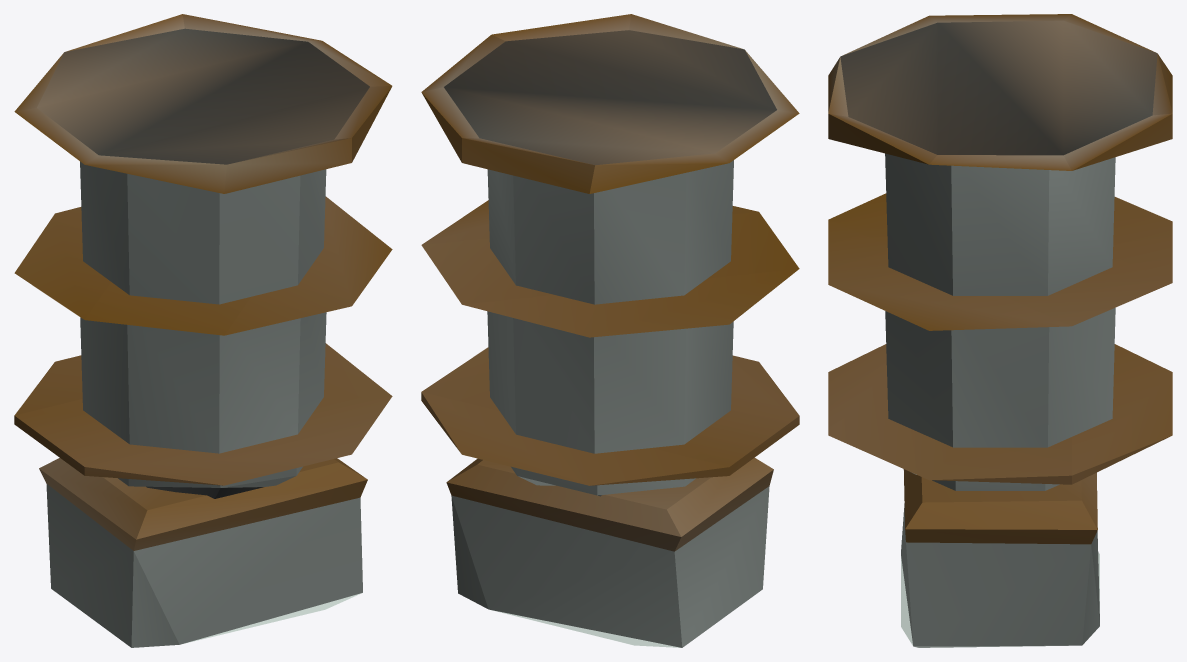
Rendered from Edificio6.fbx.
3 renders of one model, left to right at view 1: azimuth 30°, elevation 25°; view 2: azimuth 150°, elevation 25°; view 3: azimuth 270°, elevation 25°, orthographic.
Visible parts, largest first — view 1: edificacao6; view 2: edificacao6; view 3: edificacao6.
Boxes of the visible parts, x1=… form: edificacao6: x1=14, y1=14, x2=392, y2=647; edificacao6: x1=421, y1=14, x2=799, y2=647; edificacao6: x1=828, y1=14, x2=1172, y2=647.
Bounding box in the file's own units: 1180 × 1838 × 1124.
